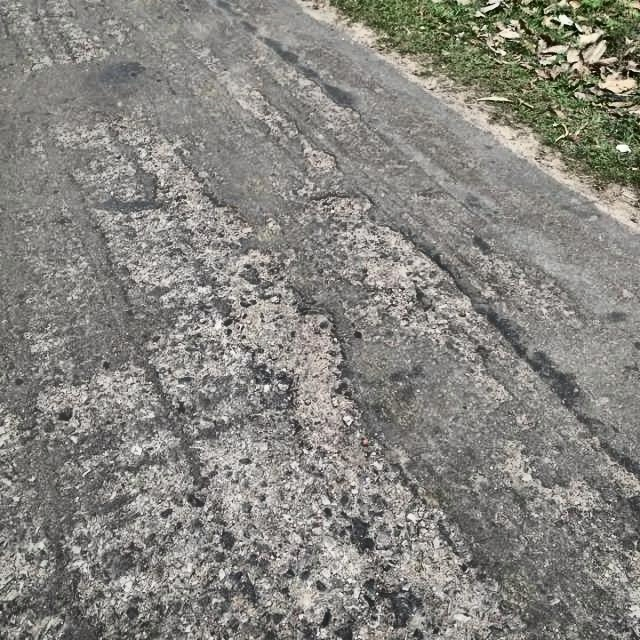Pothole: (306, 186, 468, 318), (231, 286, 357, 431)
